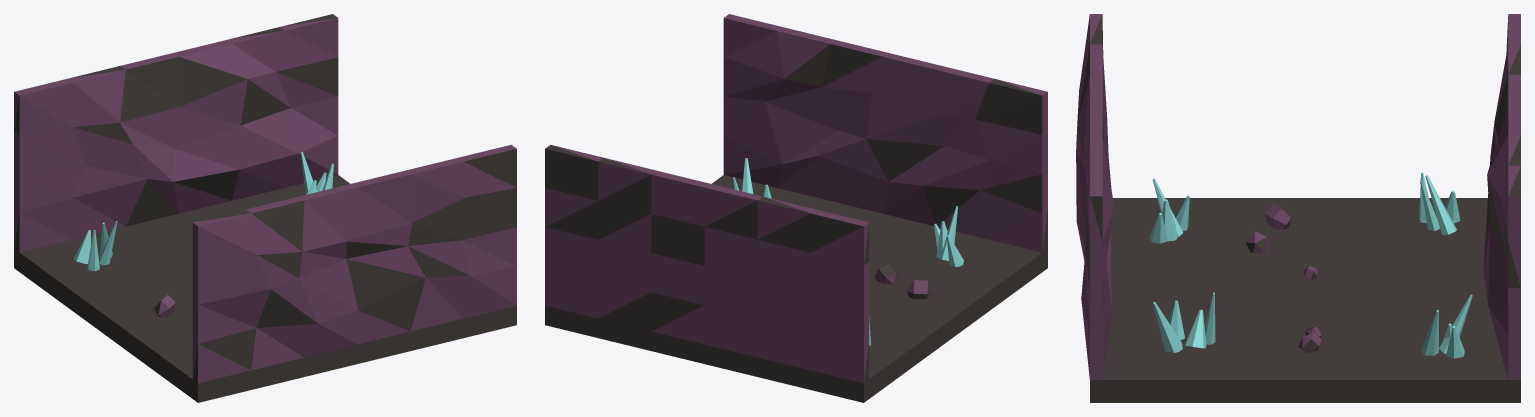
The model's file is Kit_Dug_CrystalHollows.fbx.
3 renders of one model, left to right at view 1: azimuth 30°, elevation 25°; view 2: azimuth 150°, elevation 25°; view 3: azimuth 270°, elevation 25°, orthographic. The views are drawn at different scales.
Parts seen in each view (by area): view 1: FrontWall, BackRock, Floor, DecorNeon; view 2: BackRock, FrontWall, Floor, DecorNeon, Decor; view 3: Floor, FrontWall, BackRock, DecorNeon, Decor.
Part boxes in pixels (<box>): FrontWall: <box>192,144,516,383</box>; BackRock: <box>14,14,338,252</box>; Floor: <box>14,175,516,402</box>; DecorNeon: <box>74,152,333,271</box>; BackRock: <box>545,144,869,383</box>; FrontWall: <box>723,14,1047,252</box>; Floor: <box>545,175,1047,402</box>; DecorNeon: <box>733,158,963,345</box>; Decor: <box>875,264,933,299</box>; Floor: <box>1090,198,1520,402</box>; FrontWall: <box>1076,14,1114,379</box>; BackRock: <box>1483,14,1520,379</box>; DecorNeon: <box>1150,172,1472,358</box>; Decor: <box>1245,204,1321,352</box>.
Size of the model in its own units: 34 by 18 by 35.09.
